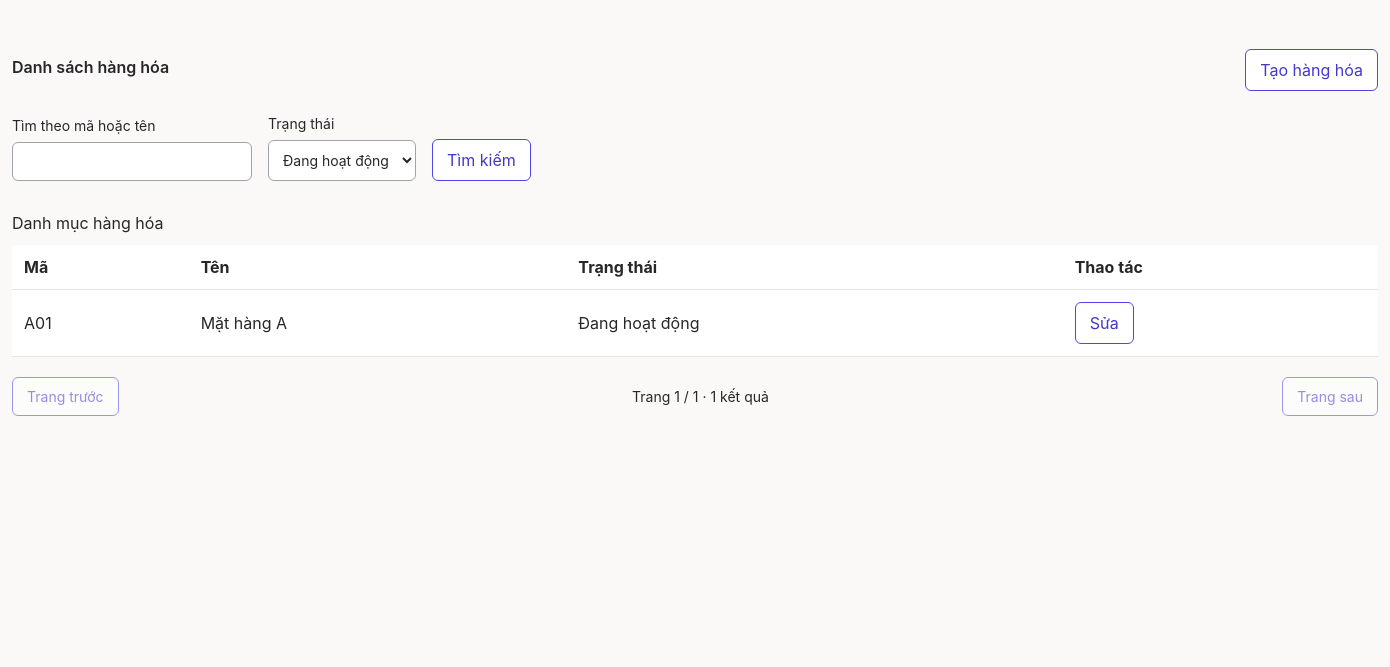
Test: goods updates names with immutable codes and shows API errors
Click the button with aria-label "Sửa A01" at (1104, 323), box [1075,302,1134,344]
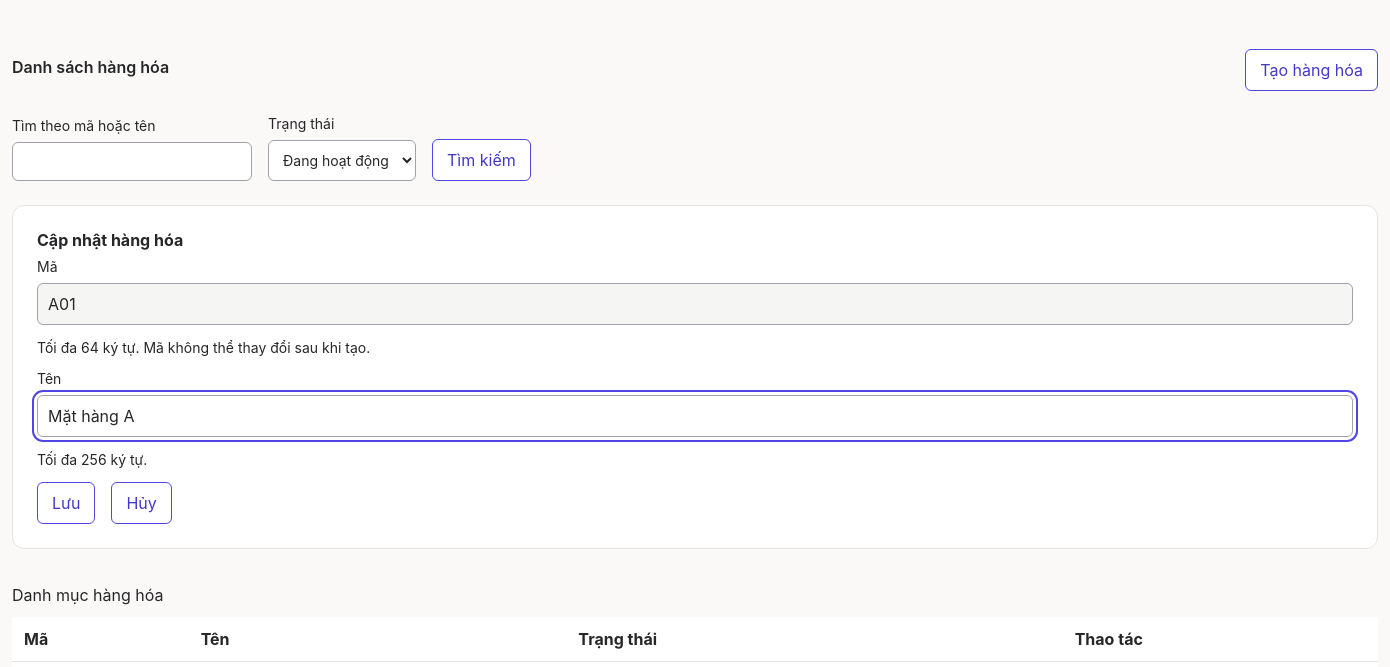
Replace the text in the field labelled "Tên" with "Tên mới" at (695, 416), box [37,395,1353,437]
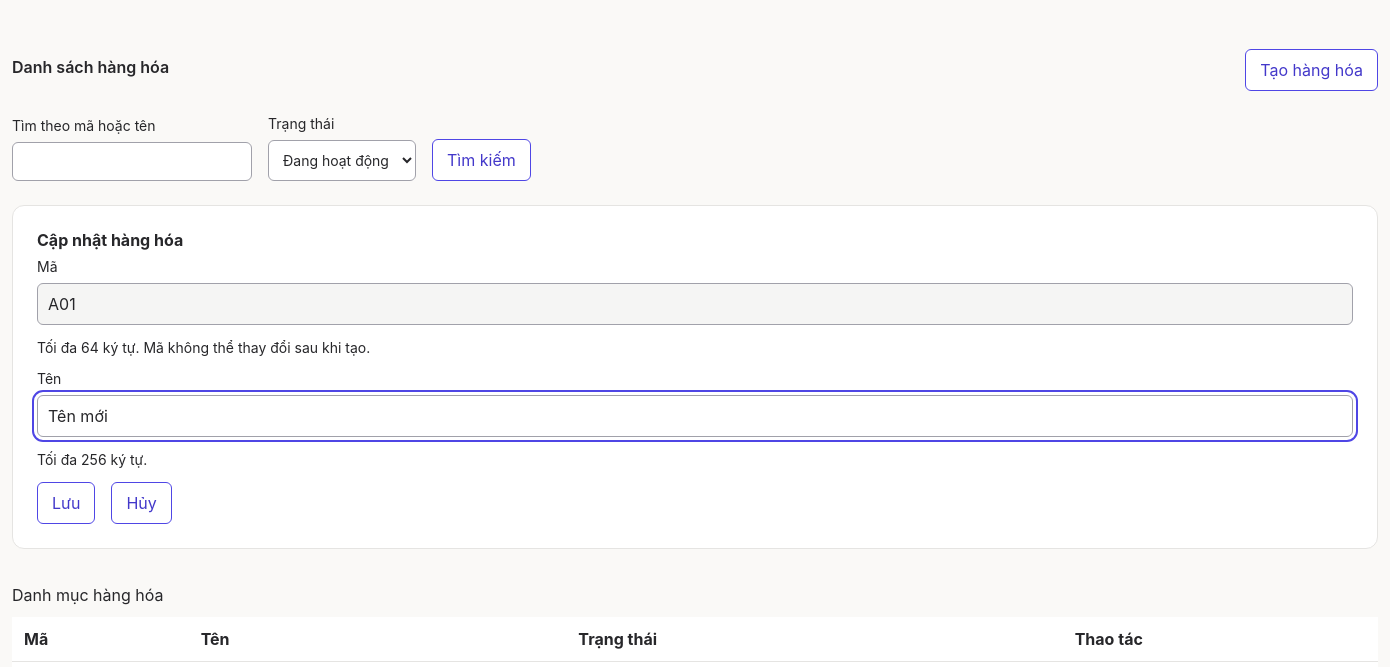
Click the button "Lưu" at (66, 503), box [37,482,95,524]
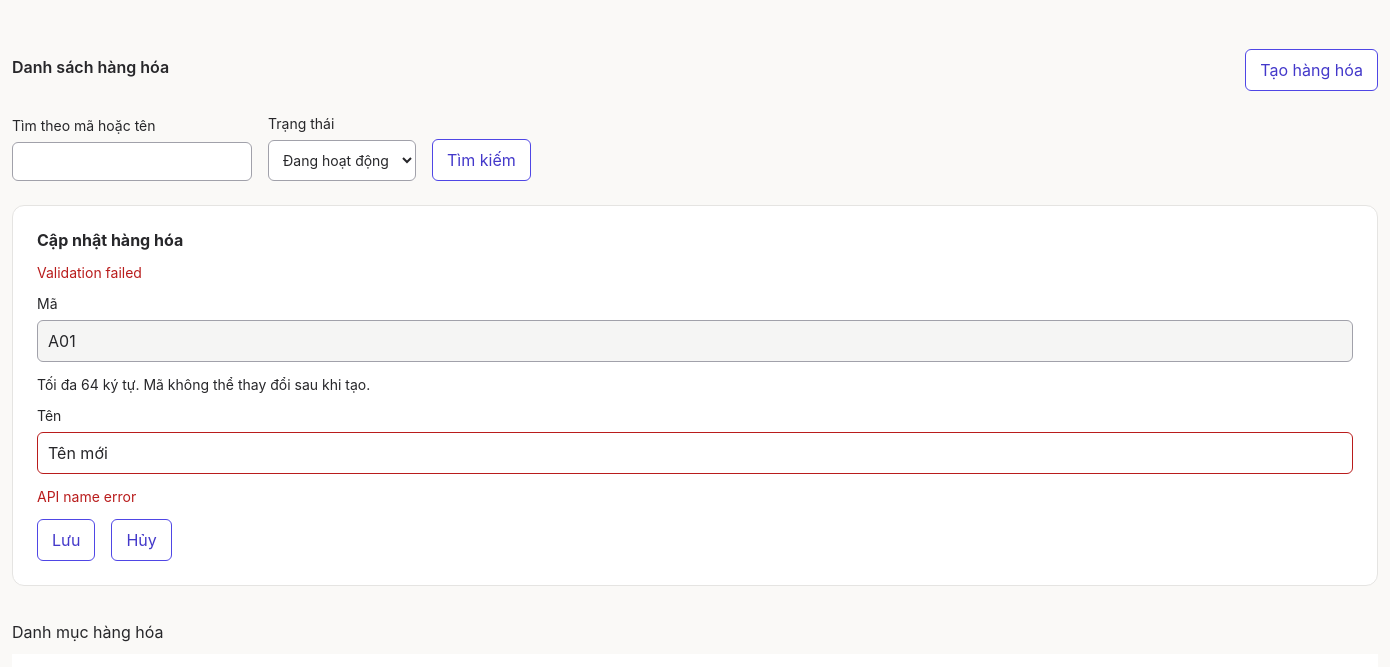
Now the text "API name error" is shown, box [37,488,136,505]
Click the button "Lưu" at (66, 540), box [37,519,95,561]
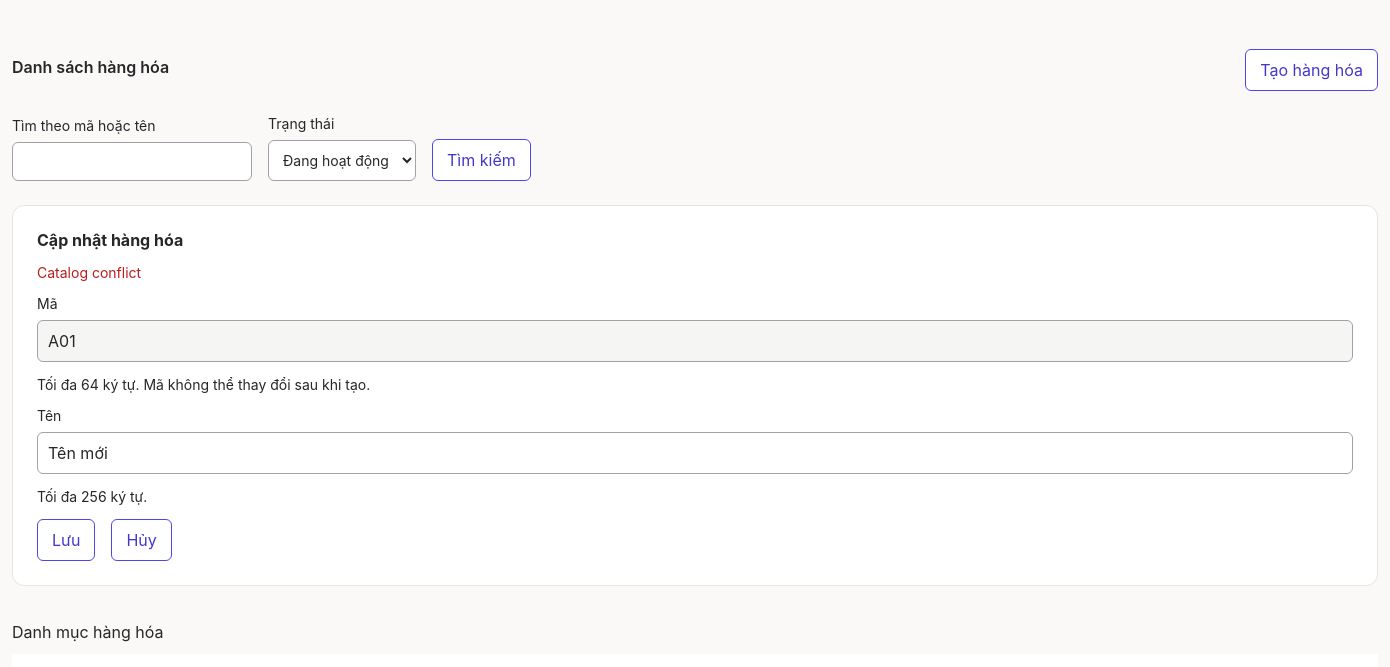
Now the text "Catalog conflict" is shown, box [37,264,141,281]
Click the button "Lưu" at (66, 540), box [37,519,95,561]
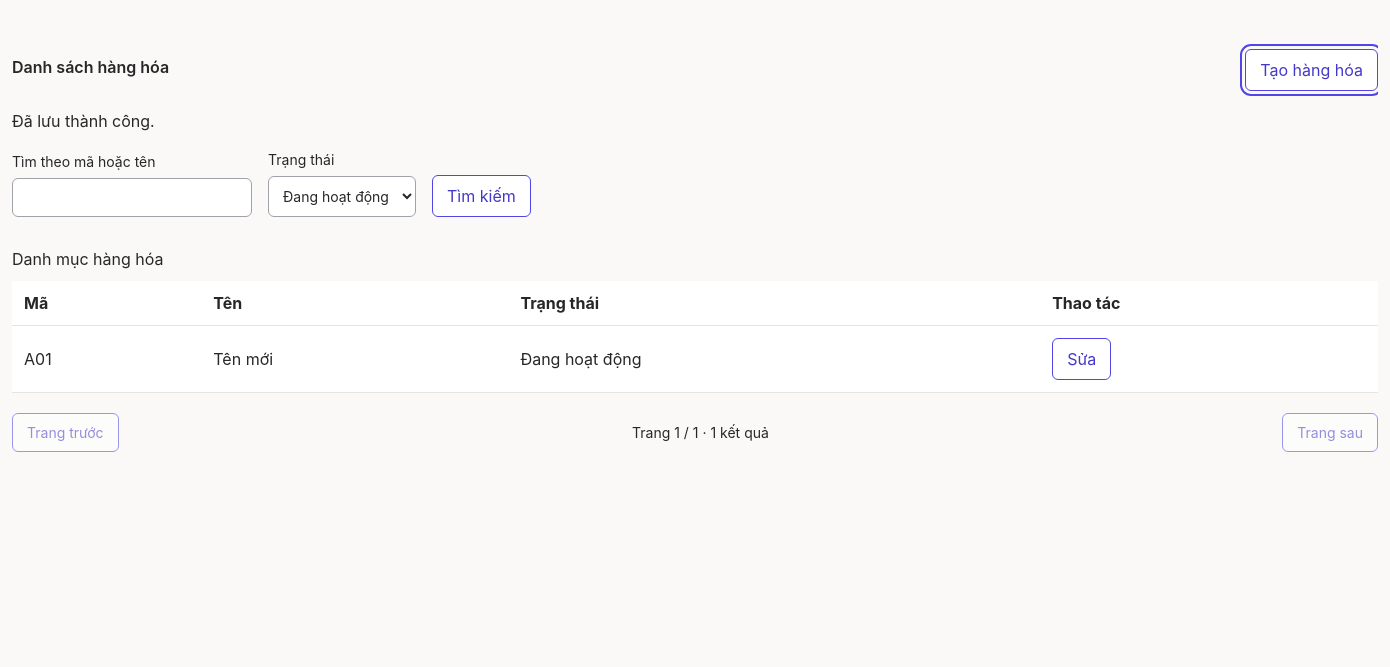
Now the text "Đã lưu thành công." is shown, box [12,111,155,131]
Now the text "Tên mới" is shown, box [201,326,508,393]
